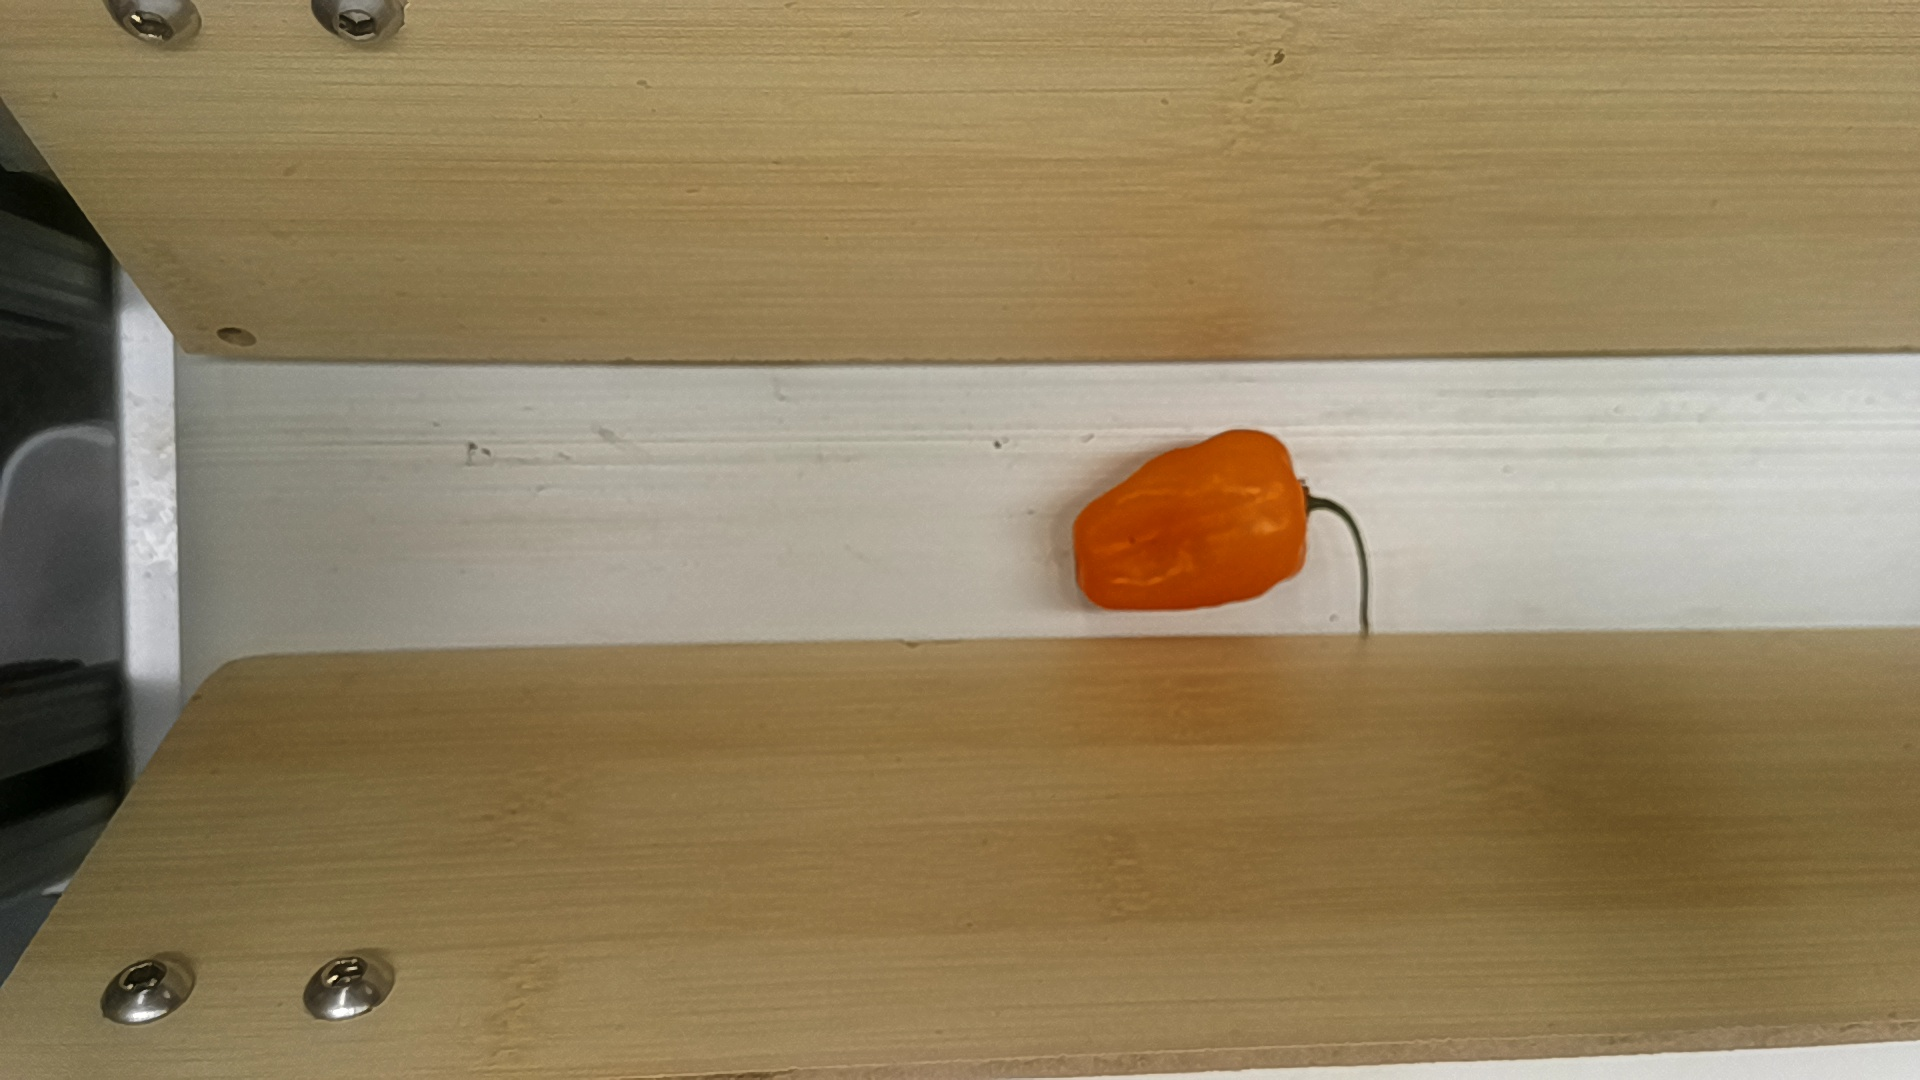Cut Point: (1269, 418, 1319, 593)
